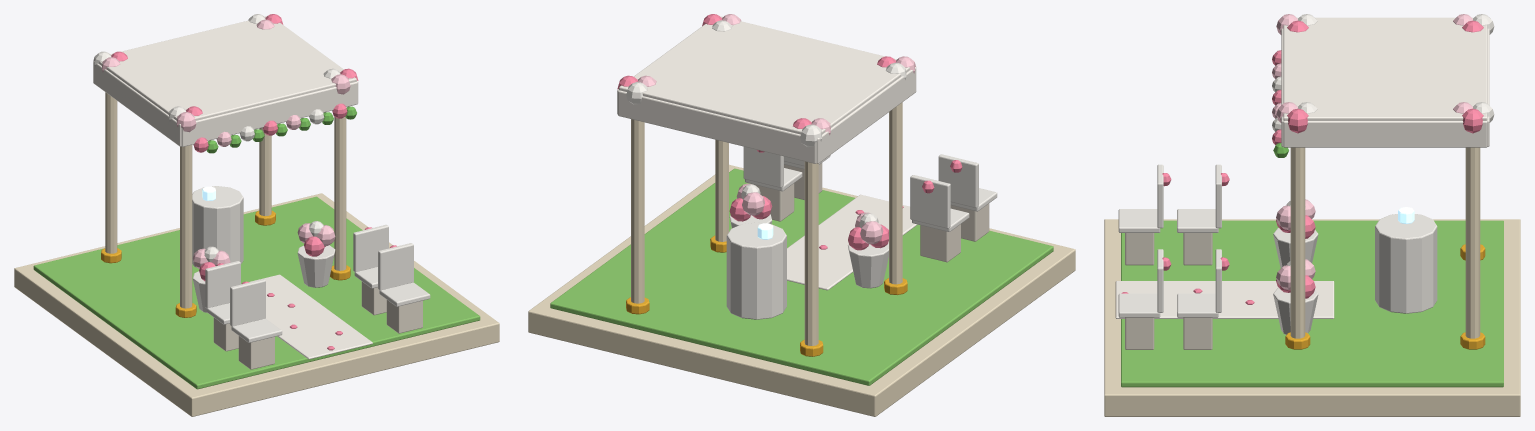
File: wedding.glb
3 renders of one model, left to right at view 1: azimuth 30°, elevation 25°; view 2: azimuth 150°, elevation 25°; view 3: azimuth 270°, elevation 25°, orthographic. The views are drawn at different scales.
Parts seen in each view (by area): view 1: Wedding; view 2: Wedding; view 3: Wedding.
Part boxes in pixels (box(x1,y1,x2,y2)): Wedding: box(14, 14, 499, 416); Wedding: box(528, 14, 1075, 416); Wedding: box(1104, 14, 1520, 416).
Bounding box in the file's own units: 2 × 1.42 × 2.
